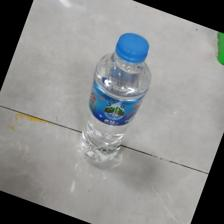Lavie: (78, 33, 151, 166)
